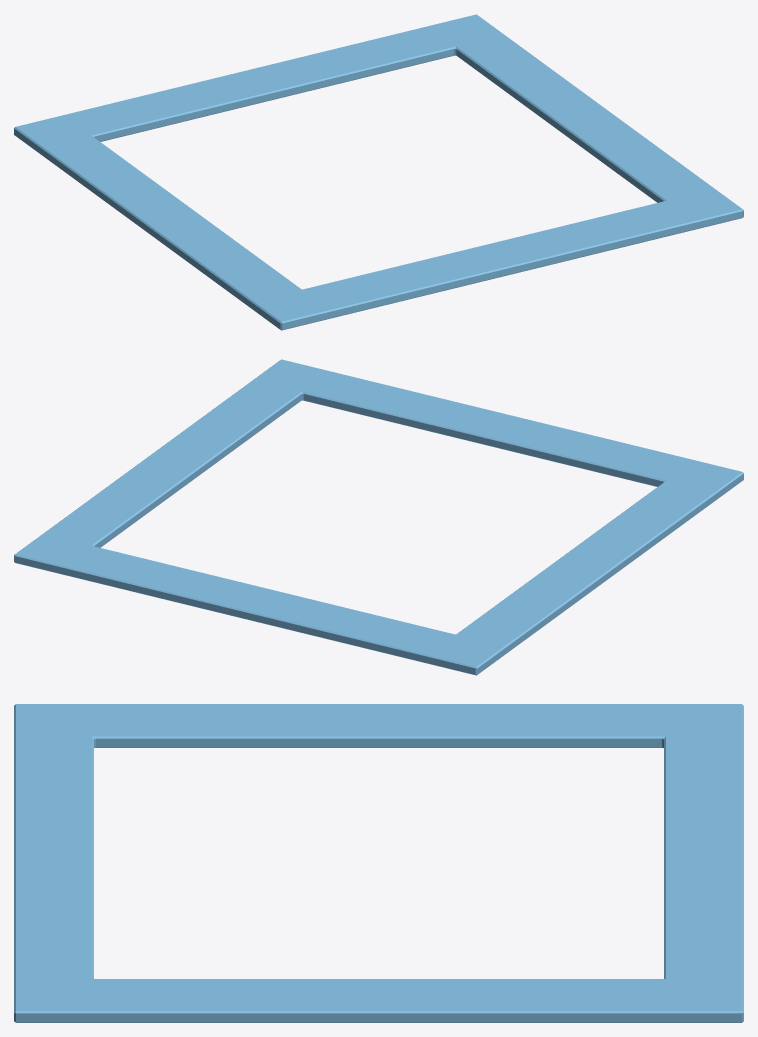
File: Ring.glb
3 renders of one model, top to bottom at view 1: azimuth 30°, elevation 25°; view 2: azimuth 150°, elevation 25°; view 3: azimuth 270°, elevation 25°, orthographic. The views are drawn at different scales.
Visible parts, largest first — view 1: Ring; view 2: Ring; view 3: Ring.
Part boxes in pixels (x1,y1,x2,y2): Ring: (14,14,743,330); Ring: (14,359,743,675); Ring: (14,704,743,1022).
Size of the model in its own units: 8.62 by 0.1561 by 8.62.
